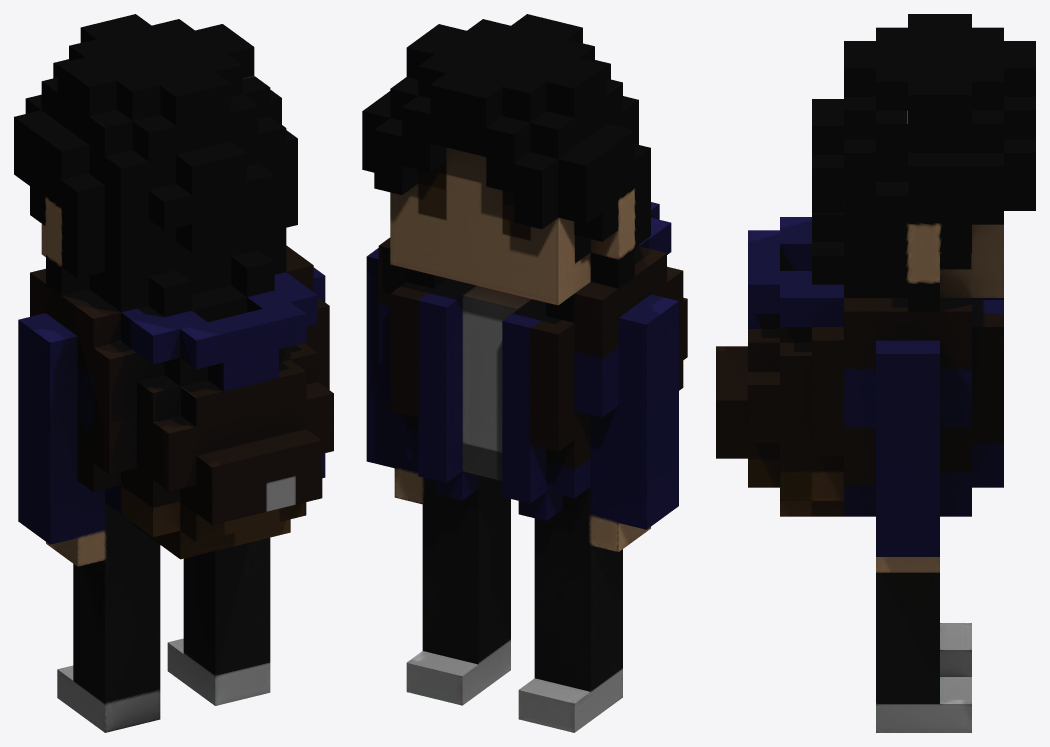
Rendered from bakestudentver2.glb.
3 views of the same model, side by side, from view 1: azimuth 30°, elevation 25°; view 2: azimuth 150°, elevation 25°; view 3: azimuth 270°, elevation 25° (orthographic).
Parts seen in each view (by area): view 1: studentver2; view 2: studentver2; view 3: studentver2.
Part boxes in pixels (bbox=[...]): studentver2: bbox=[14, 14, 333, 732]; studentver2: bbox=[362, 14, 687, 732]; studentver2: bbox=[716, 14, 1035, 732].
Size of what is drawn, in the model's own units: 1 by 2.2 by 1.
Materials: 1 (1 with a texture image).
